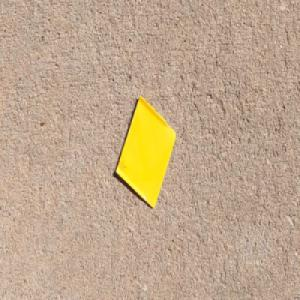PlasticPart: (114, 93, 176, 210)
